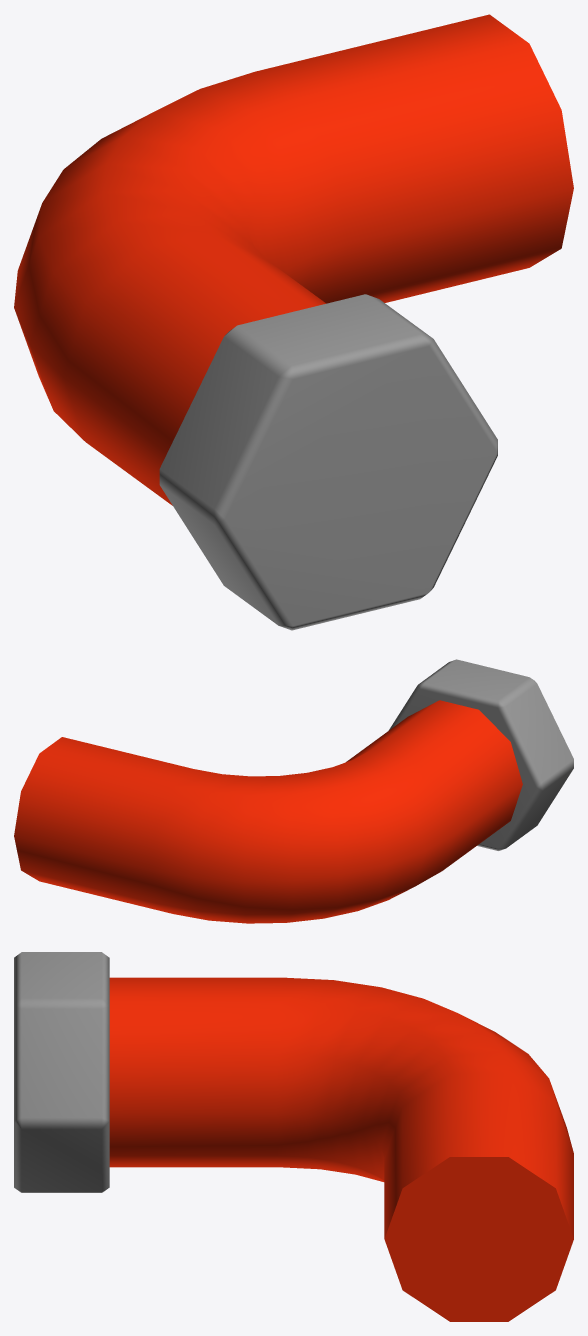
File: SmallPipe_Bend.FBX
3 renders of one model, top to bottom at view 1: azimuth 30°, elevation 25°; view 2: azimuth 150°, elevation 25°; view 3: azimuth 270°, elevation 25°, orthographic. The views are drawn at different scales.
Parts seen in each view (by area): view 1: Line002, Cylinder022; view 2: Line002, Cylinder022; view 3: Line002, Cylinder022.
Boxes of the visible parts, x1=… form: Line002: x1=14, y1=14, x2=573, y2=505; Cylinder022: x1=159, y1=294, x2=497, y2=630; Line002: x1=14, y1=700, x2=522, y2=923; Cylinder022: x1=388, y1=659, x2=573, y2=850; Line002: x1=109, y1=977, x2=573, y2=1321; Cylinder022: x1=14, y1=952, x2=109, y2=1192.
Bounding box in the file's own units: 53.89 × 22.52 × 58.61.
